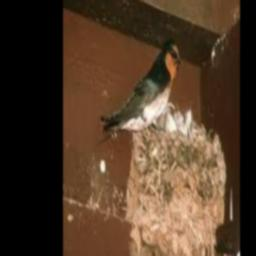Swallow: (101, 40, 181, 134)
